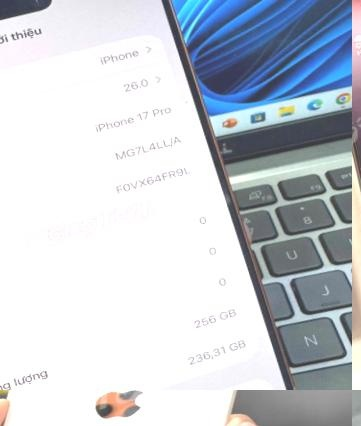scratch: (81, 390, 148, 426)
